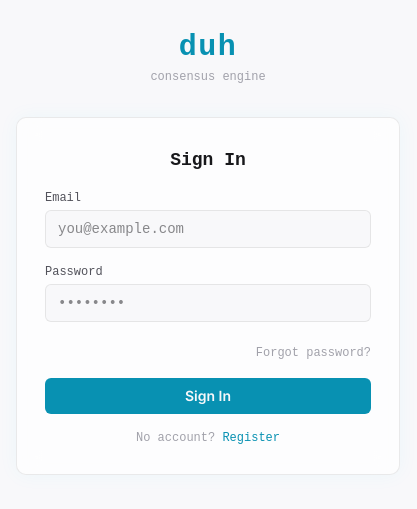
LoginPage › shows display name field in register mode
// Click Register link
Click the button "Register" at {"x": 251, "y": 438}, box [222, 430, 280, 446]
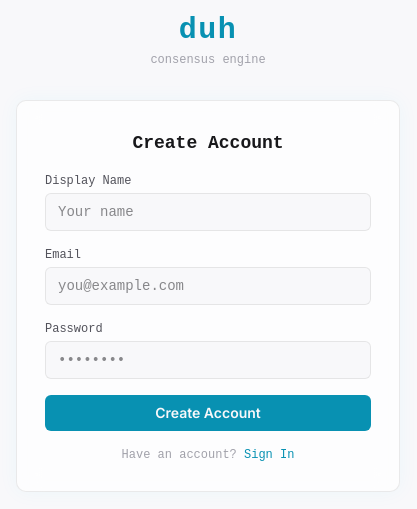
Now the heading "Create Account" is shown, box [132, 133, 284, 153]
Now the field with placeholder "Your name" is shown, box [45, 193, 371, 231]
